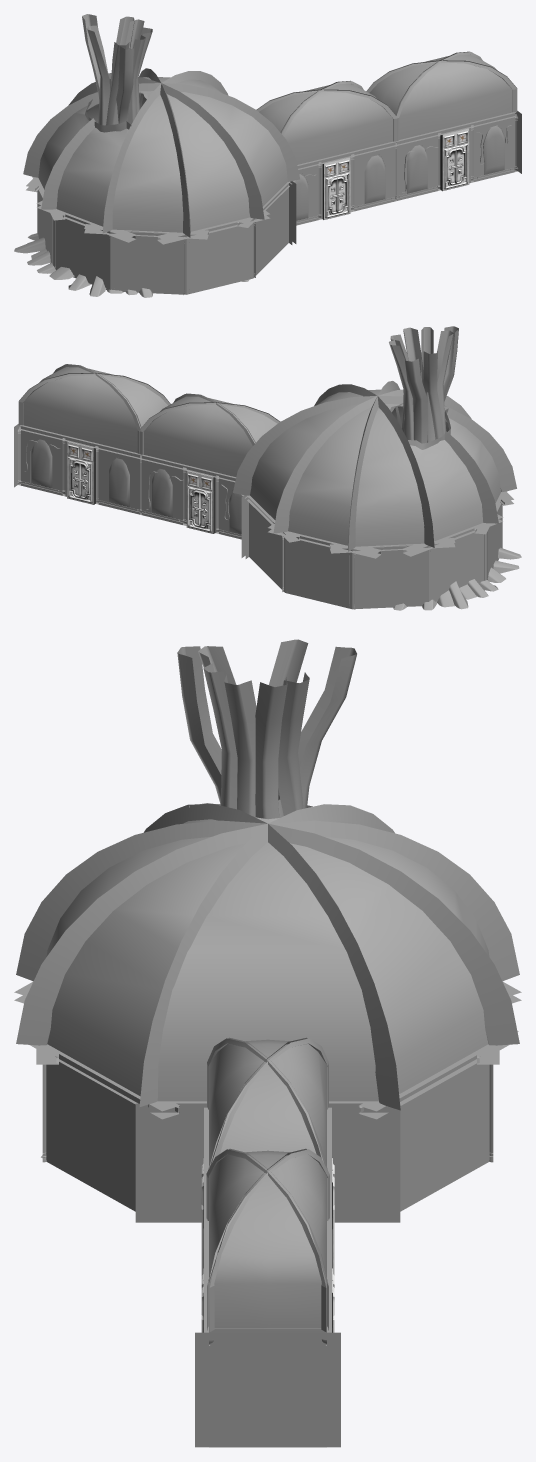
File: mapselect.fbx
3 views of the same model, one above another, from view 1: azimuth 30°, elevation 25°; view 2: azimuth 150°, elevation 25°; view 3: azimuth 270°, elevation 25° (orthographic). The views are drawn at different scales.
Visible parts, largest first — view 1: mapselect, door04_r, door01_r, door01_l, door04_l; view 2: mapselect, door03_l, door02_l, door02_r, door03_r; view 3: mapselect.
Boxes of the visible parts, left/top/right/bottom form: mapselect: left=14, top=14, right=521, bottom=297; door04_r: left=440, top=131, right=456, bottom=191; door01_r: left=322, top=160, right=337, bottom=219; door01_l: left=337, top=157, right=350, bottom=216; door04_l: left=456, top=128, right=469, bottom=187; mapselect: left=14, top=326, right=521, bottom=610; door03_l: left=80, top=445, right=95, bottom=504; door02_l: left=199, top=474, right=214, bottom=533; door02_r: left=186, top=470, right=199, bottom=530; door03_r: left=67, top=441, right=80, bottom=501; mapselect: left=14, top=639, right=521, bottom=1447.
Size of the model in its own units: 10366 by 4897 by 5155.
